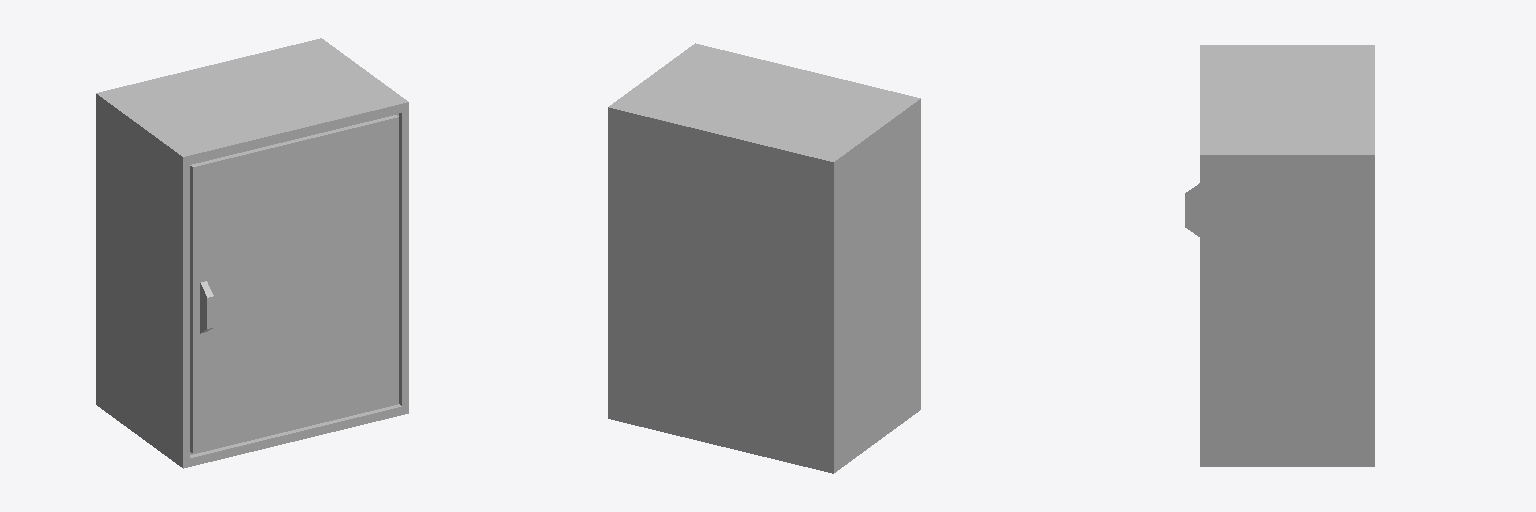
Rendered from Kitchen_first_aid.obj.
3 views of the same model, side by side, from view 1: azimuth 30°, elevation 25°; view 2: azimuth 150°, elevation 25°; view 3: azimuth 270°, elevation 25° (orthographic).
Visible parts, largest first — view 1: Kitchen_first_aid:pCube1; view 2: Kitchen_first_aid:pCube1; view 3: Kitchen_first_aid:pCube1.
Boxes of the visible parts, box(x1,y1,x2,y2) form: Kitchen_first_aid:pCube1: box(96, 38, 408, 468); Kitchen_first_aid:pCube1: box(608, 43, 920, 473); Kitchen_first_aid:pCube1: box(1185, 45, 1374, 466).
Size of the model in its own units: 8.63 by 11.37 by 6.25.